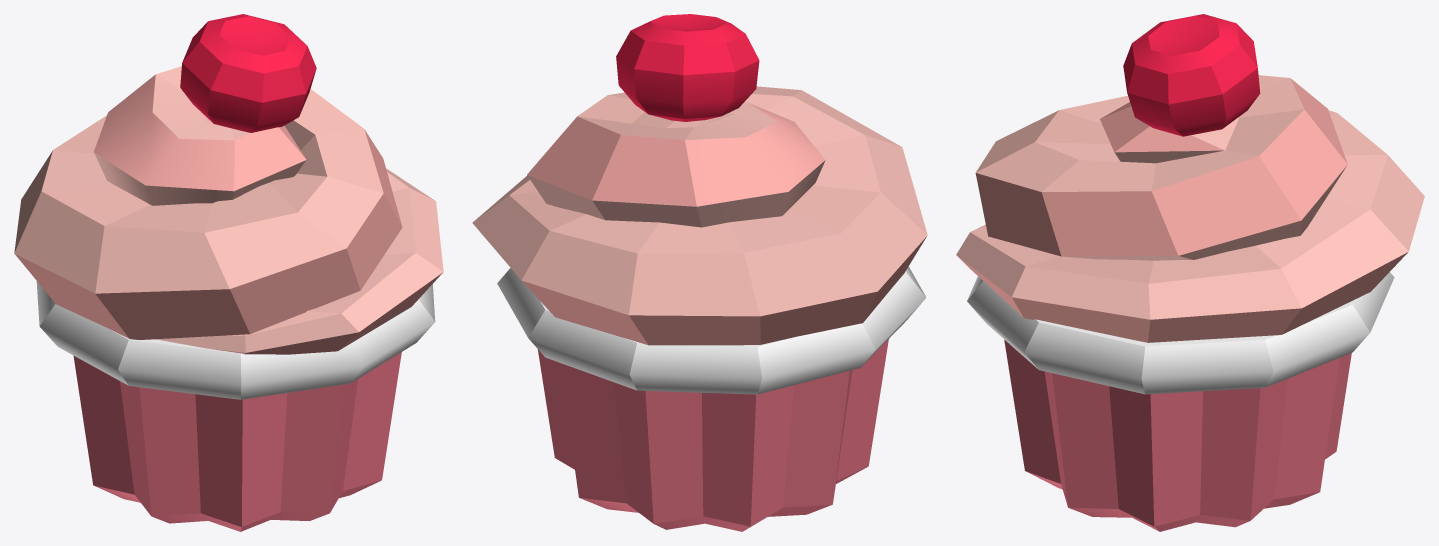
The model's file is PW_cupcake_cherry.fbx.
3 views of the same model, side by side, from view 1: azimuth 30°, elevation 25°; view 2: azimuth 150°, elevation 25°; view 3: azimuth 270°, elevation 25° (orthographic). The views are drawn at different scales.
Parts seen in each view (by area): view 1: cupcake_cherry; view 2: cupcake_cherry; view 3: cupcake_cherry.
Part boxes in pixels (box(x1,y1,x2,y2)): cupcake_cherry: box(14, 14, 443, 531); cupcake_cherry: box(472, 14, 927, 531); cupcake_cherry: box(956, 14, 1424, 531).
Bounding box in the file's own units: 19.98 × 22.6 × 20.78.
Materials: 1 (1 with a texture image).
